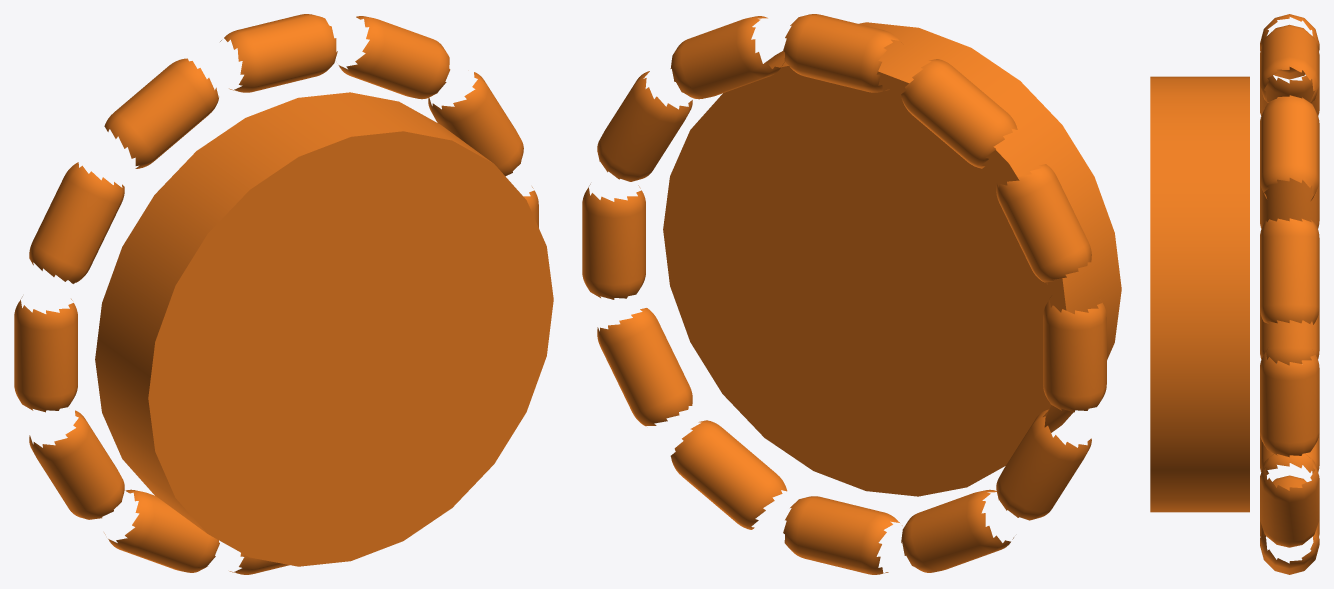
The picture shows the model from 3 angles, left to right: view 1: azimuth 30°, elevation 25°; view 2: azimuth 150°, elevation 25°; view 3: azimuth 270°, elevation 25°; orthographic projection. The views are drawn at different scales.
Visible parts, largest first — view 1: gripper_frame; view 2: gripper_frame; view 3: gripper_frame.
Part boxes in pixels (box(x1,y1,x2,y2)): gripper_frame: box(14, 14, 553, 574); gripper_frame: box(582, 14, 1121, 574); gripper_frame: box(1150, 14, 1319, 574).
Size of the model in its own units: 0.0112 by 0.0112 by 0.0034.
